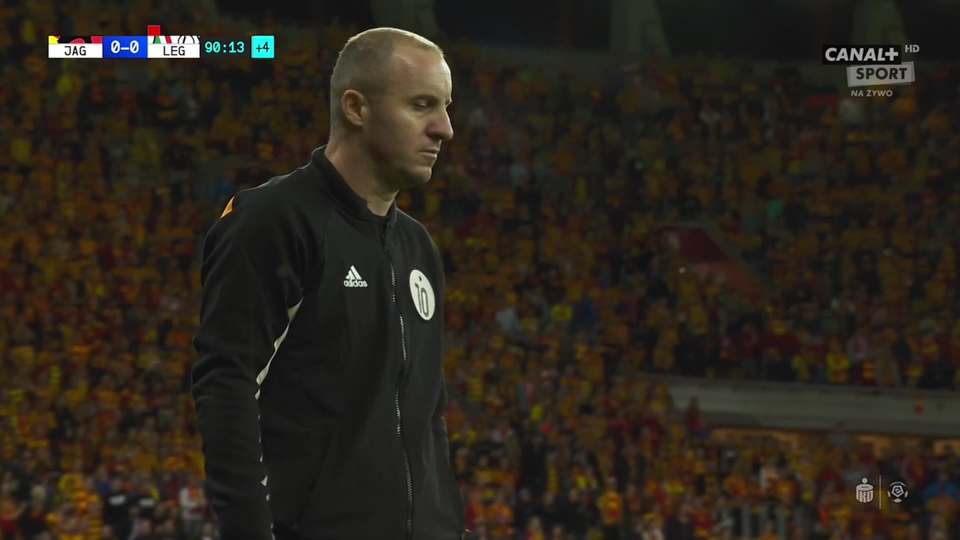Adidas: (340, 261, 369, 290)
